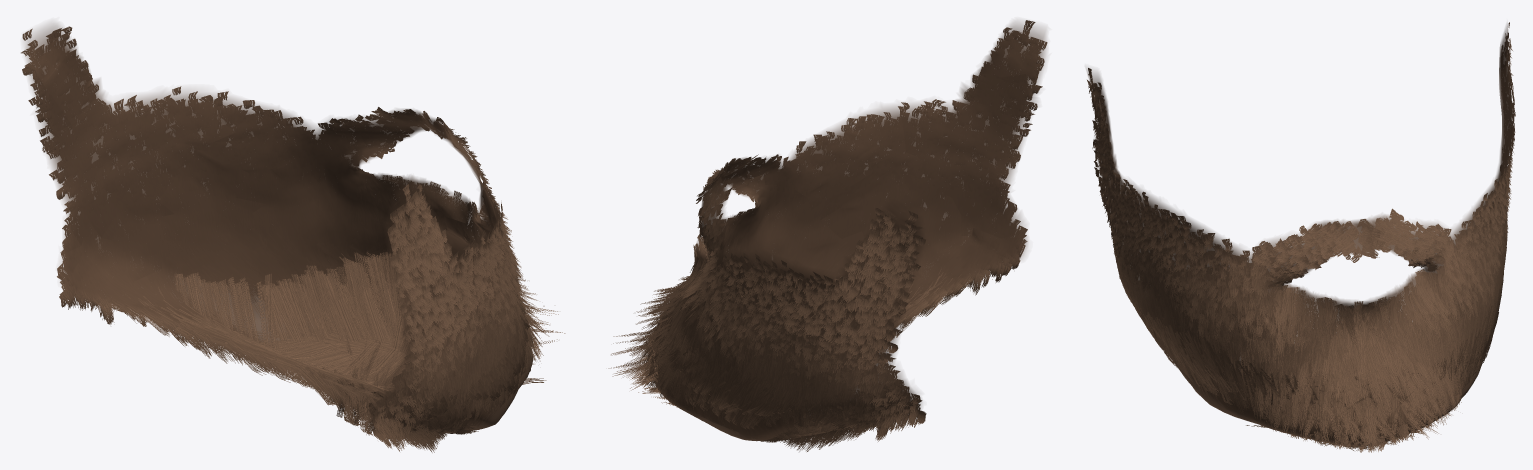
The model's file is beard-m3-tapered.glb.
The picture shows the model from 3 angles, left to right: view 1: azimuth 30°, elevation 25°; view 2: azimuth 150°, elevation 25°; view 3: azimuth 270°, elevation 25°; orthographic projection. The views are drawn at different scales.
Visible parts, largest first — view 1: Beard_m3_tapered_root, Beard_m3_tapered_cards; view 2: Beard_m3_tapered_cards, Beard_m3_tapered_root; view 3: Beard_m3_tapered_cards, Beard_m3_tapered_root.
Boxes of the visible parts, x1,y1,x2,y2 form: Beard_m3_tapered_root: (24,23,532,429); Beard_m3_tapered_cards: (21,26,565,452); Beard_m3_tapered_cards: (608,20,1047,451); Beard_m3_tapered_root: (650,21,1046,441); Beard_m3_tapered_cards: (1087,22,1515,452); Beard_m3_tapered_root: (1086,23,1513,446).
Size of the model in its own units: 0.1616 by 0.137 by 0.1659.
Materials: 2 (1 with a texture image).
